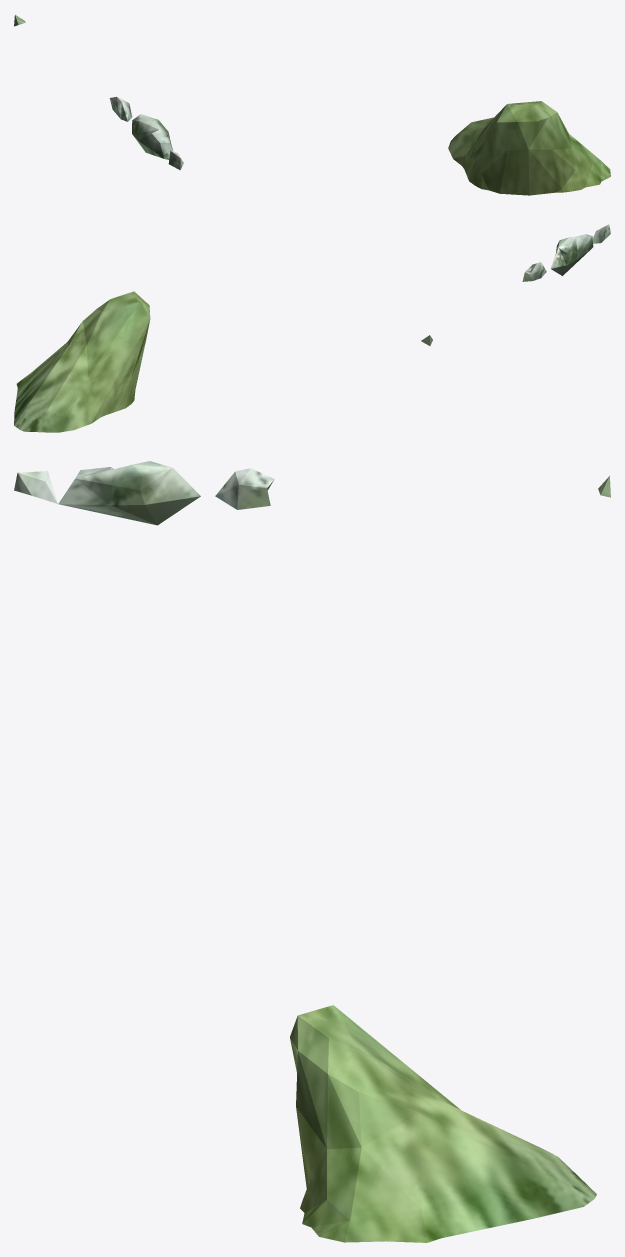
3 renders of one model, top to bottom at view 1: azimuth 30°, elevation 25°; view 2: azimuth 150°, elevation 25°; view 3: azimuth 270°, elevation 25°, orthographic. The views are drawn at different scales.
Size of the model in its own units: 4.98 by 1.99 by 2.96.
1 material, 1 textured.
